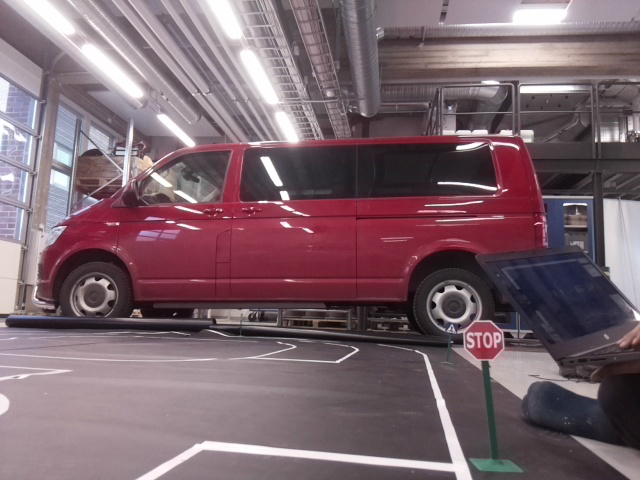Crosswalk: (443, 321, 457, 335)
Stop: (461, 319, 505, 362)
